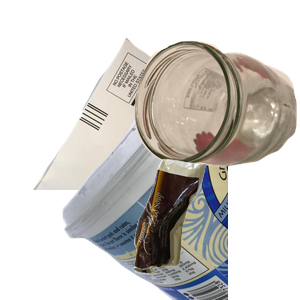glass: (132, 38, 300, 199)
paper: (31, 35, 271, 215)
plastic: (60, 120, 300, 300)
trash: (131, 157, 300, 300)
